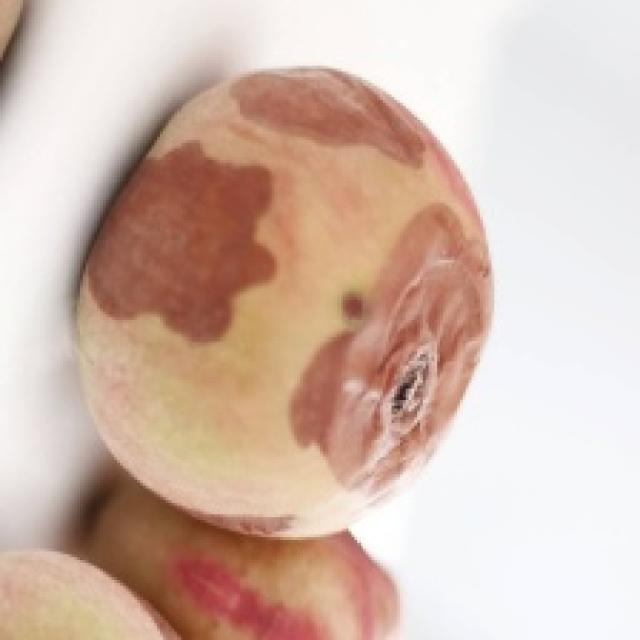rotten_apple: (76, 70, 487, 523)
